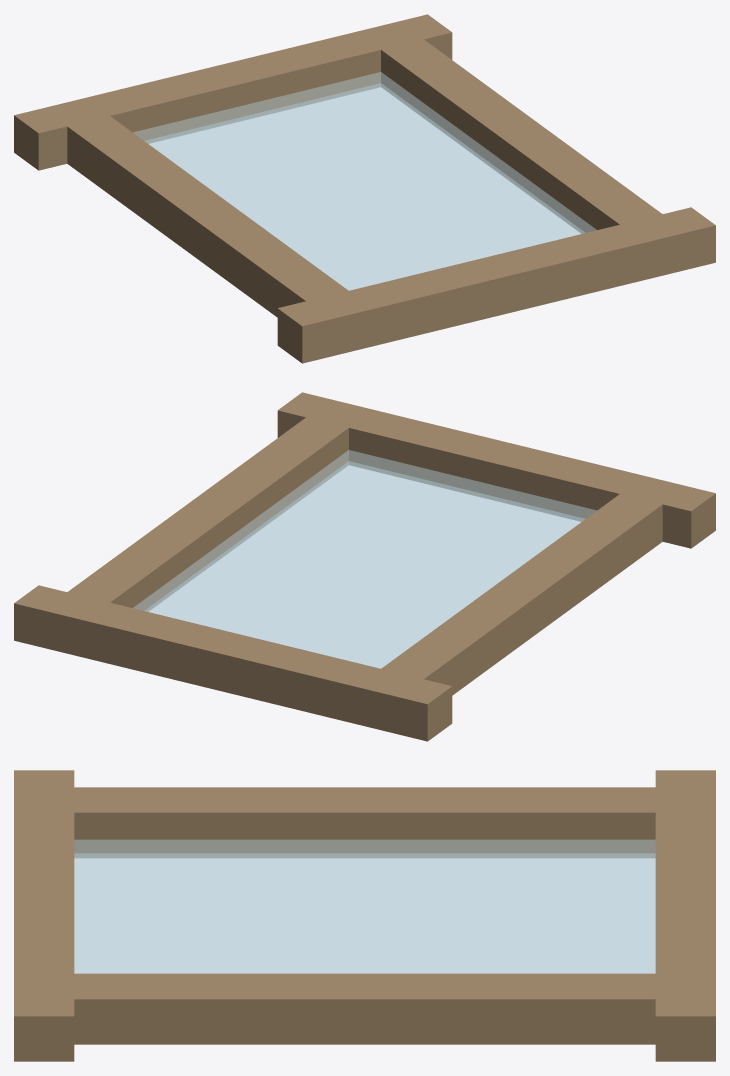
The model's file is 18-Casas_decor_espejo_marco.glb.
The picture shows the model from 3 angles, top to bottom: view 1: azimuth 30°, elevation 25°; view 2: azimuth 150°, elevation 25°; view 3: azimuth 270°, elevation 25°; orthographic projection. The views are drawn at different scales.
Visible parts, largest first — view 1: SM_Espejo_Marco, SM_Espejo_Cristal; view 2: SM_Espejo_Marco, SM_Espejo_Cristal; view 3: SM_Espejo_Marco, SM_Espejo_Cristal.
Boxes of the visible parts, box(x1,y1,x2,y2) form: SM_Espejo_Marco: box(14, 14, 715, 363); SM_Espejo_Cristal: box(133, 72, 596, 290); SM_Espejo_Marco: box(14, 392, 715, 741); SM_Espejo_Cristal: box(133, 450, 596, 668); SM_Espejo_Marco: box(14, 770, 715, 1061); SM_Espejo_Cristal: box(74, 839, 655, 973).
Size of the model in its own units: 0.58 by 0.05 by 0.7.
